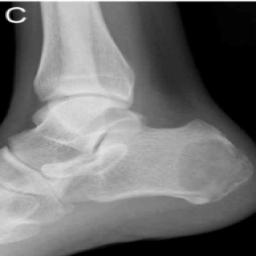cancer: (176, 142, 256, 207)
